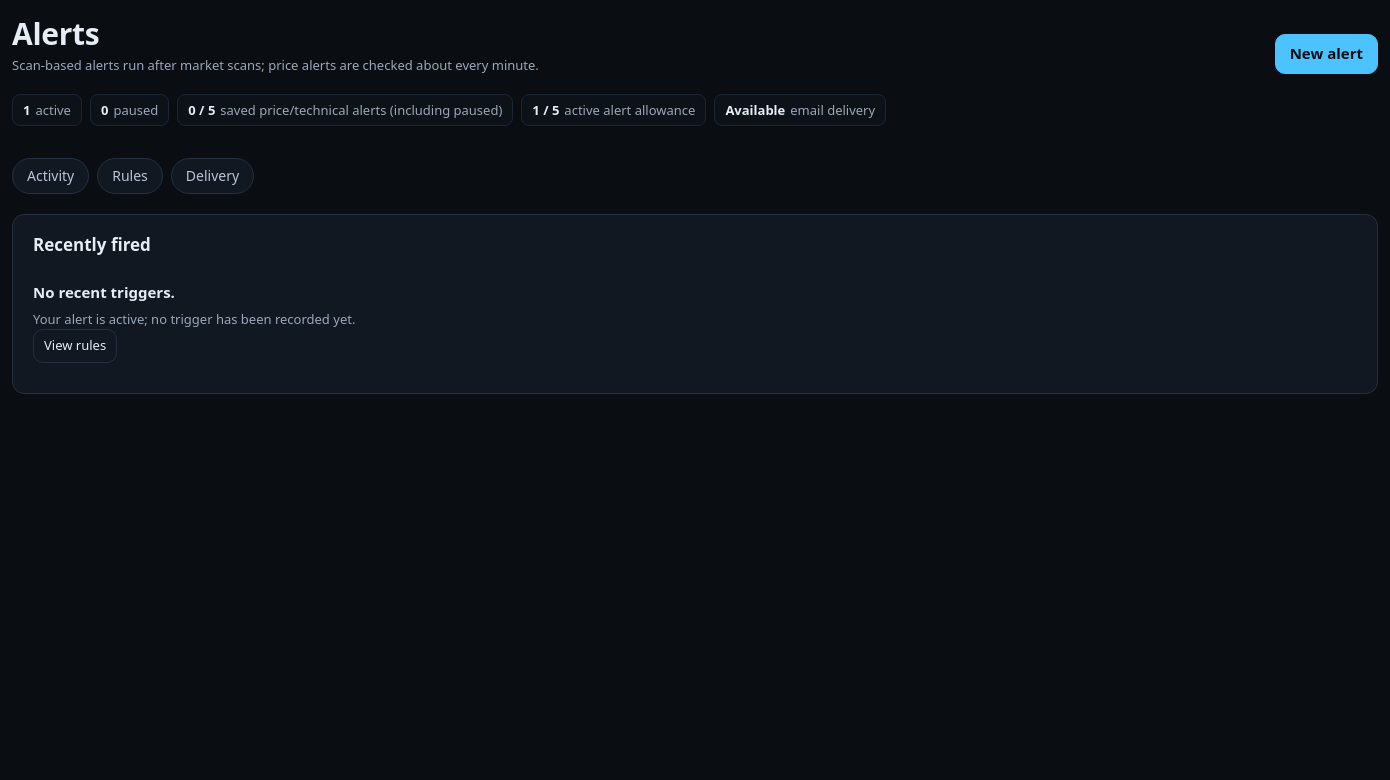
shows active HSF rules in the empty activity state and in Rules
Expected: the text "Your alert is active; no trigger has been recorded yet." is shown, [33, 310, 355, 328]
Click the button "View rules": x=75, y=346 [33, 329, 117, 363]
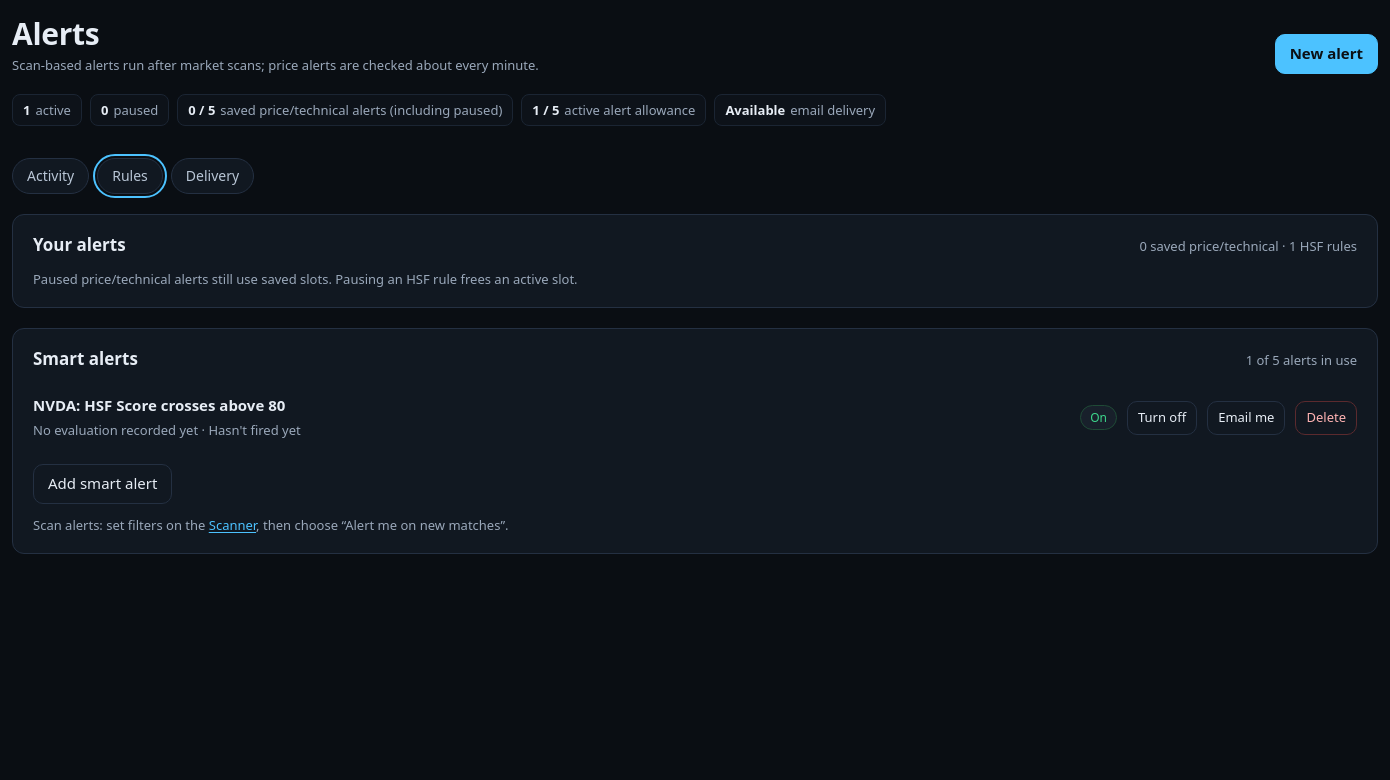
Expected: the text "NVDA: HSF Score crosses above 80" is shown, [33, 396, 285, 416]
Expected: the text "No evaluation recorded yet · Hasn't fired yet" is shown, [33, 421, 301, 439]
